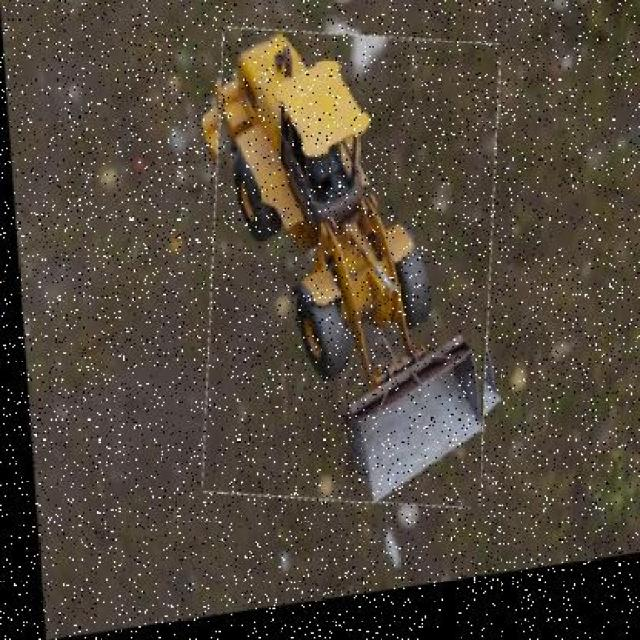buldozerpayloadergrader: (224, 35, 484, 503)
